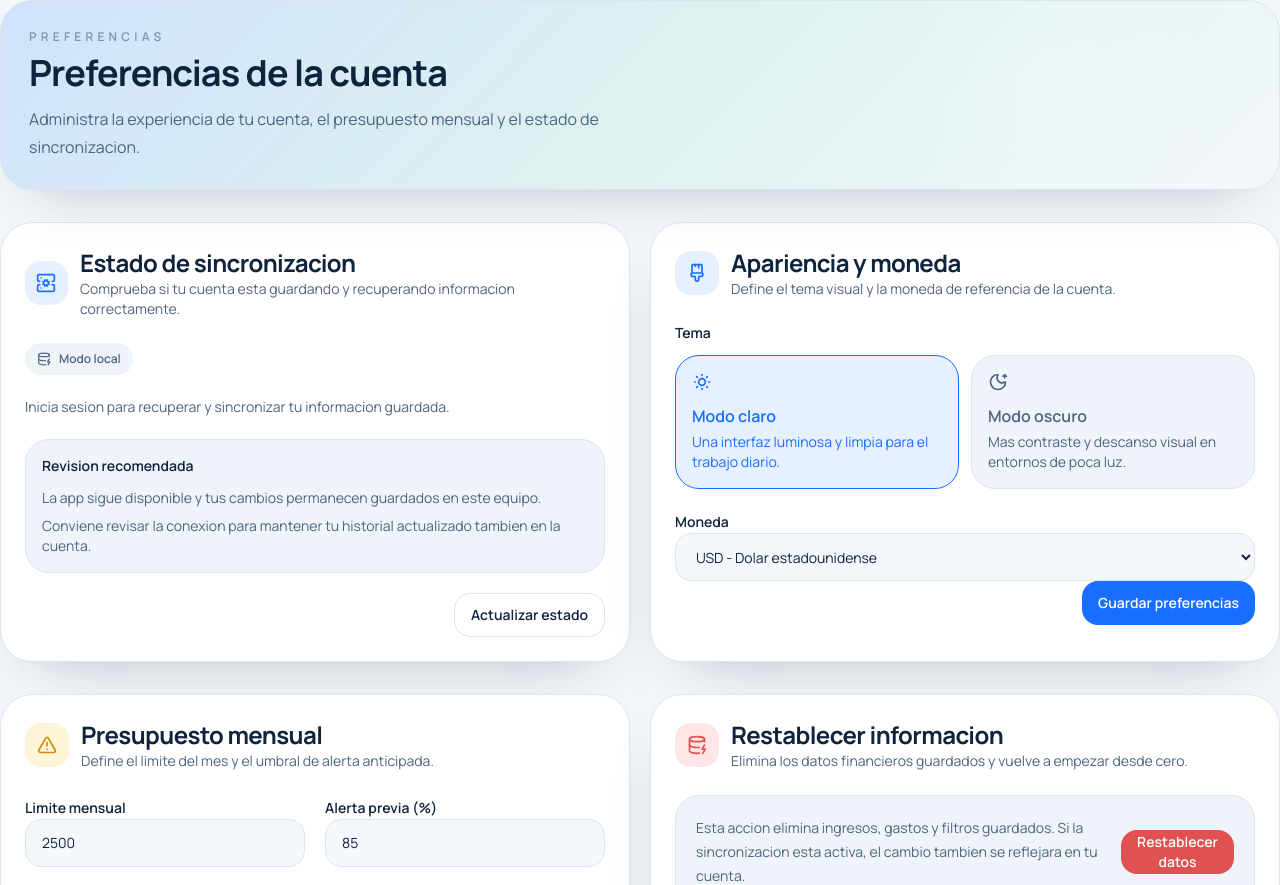
Test: SettingsPage › updates the selected currency and keeps it in state
The image size is (1280, 885).
Step 1. Select "JPY - Yen japones" in the dropdown labelled "Moneda" → (965, 557), box [675,533,1255,581]
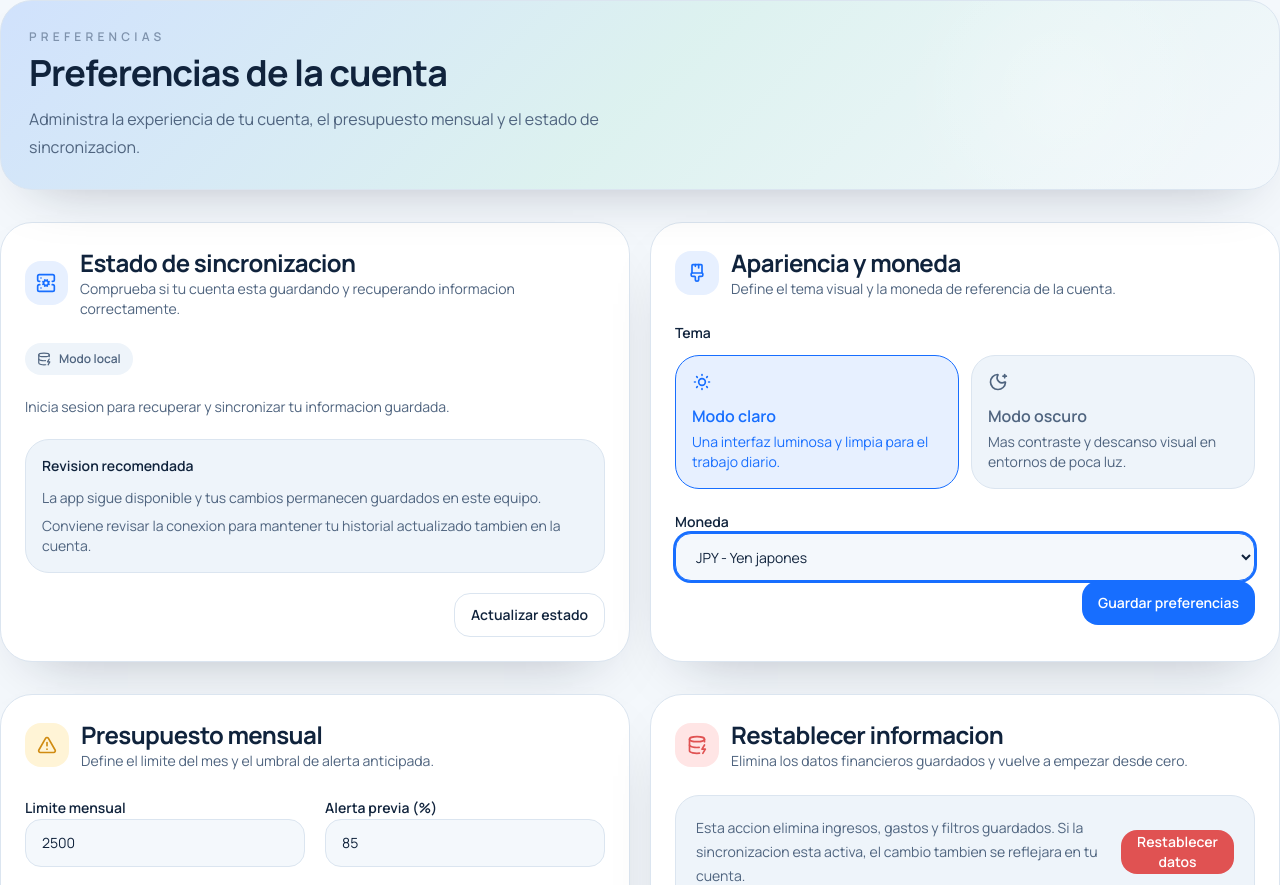
Step 2. Click the button "Guardar preferencias" → (1169, 603), box [1082,581,1255,625]
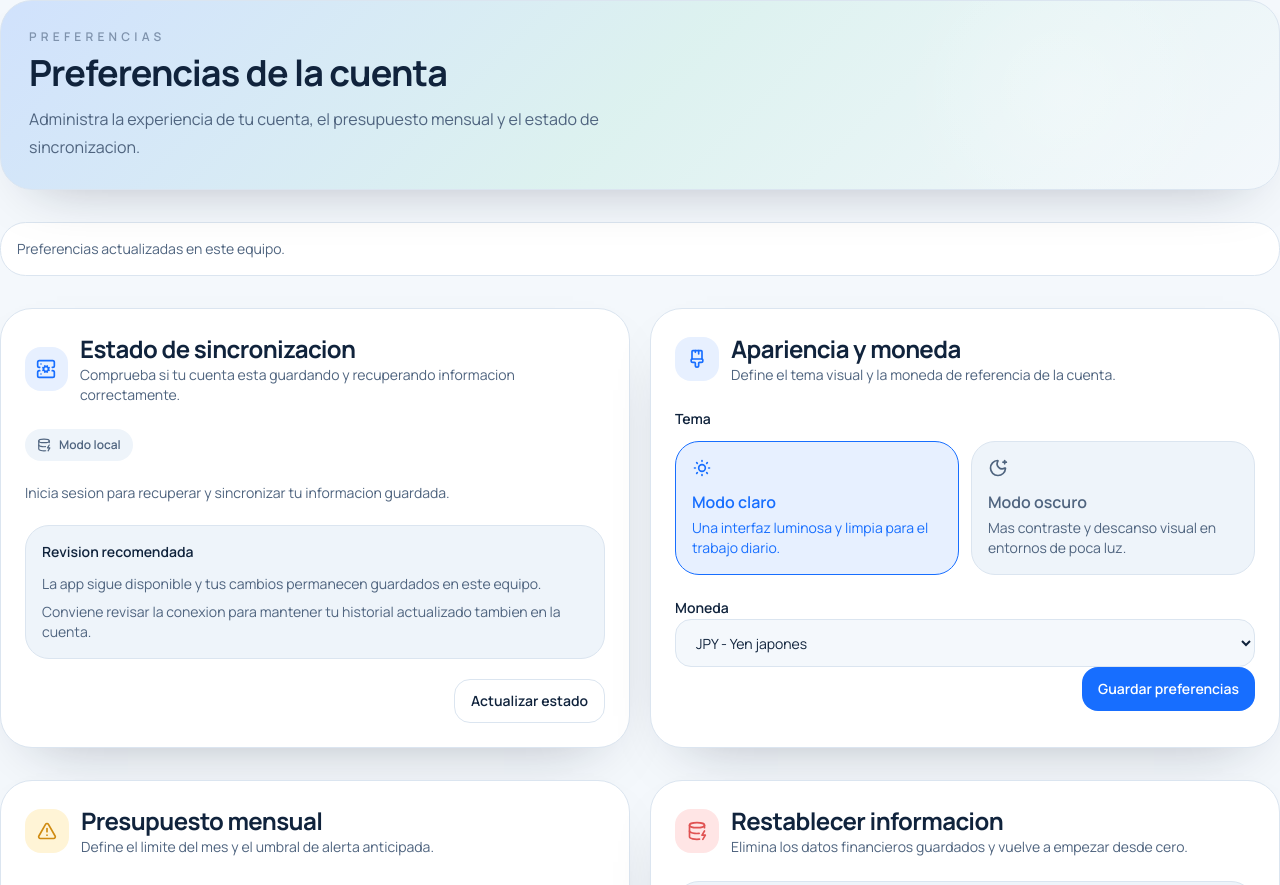
Expected: the dropdown showing "JPY - Yen japones" is shown, [675,619,1255,667]
Expected: the text "Preferencias actualizadas en este equipo." is shown, [0,222,1279,276]
